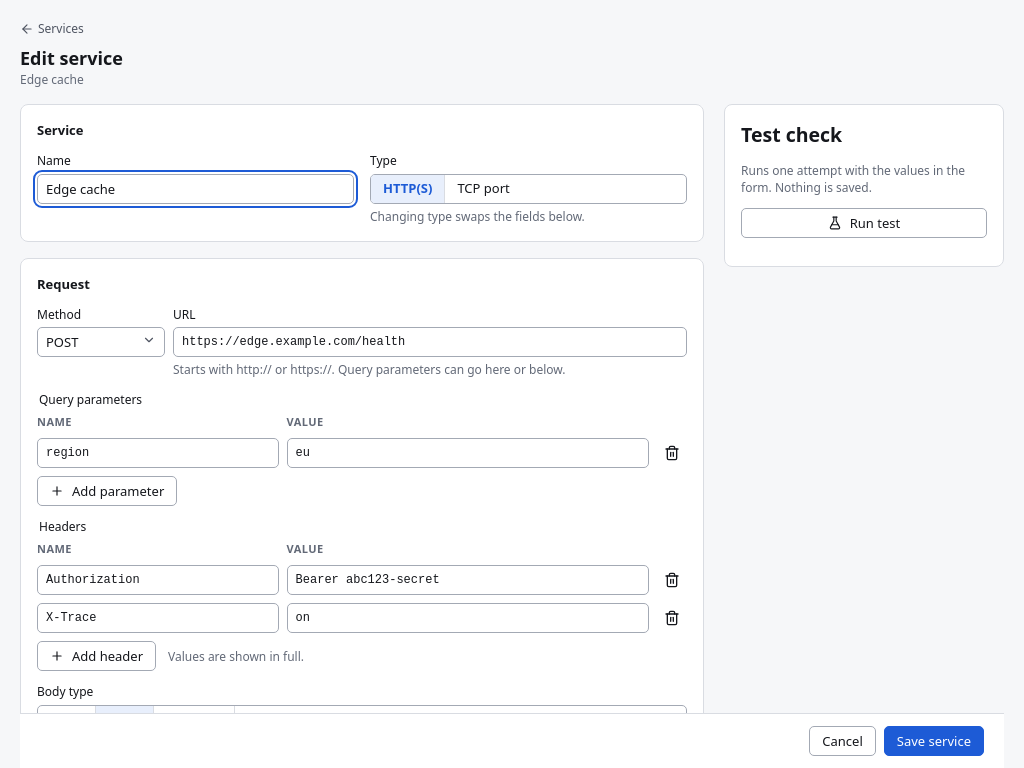
Test: a test touches nothing (FR-105) › leaves an untouched edit form unchanged: the footer stays empty
Expected: the field labelled "Name" is shown, [37, 174, 354, 204]
What coordinates should you click on to do the following:
click the button "Run test"
I would click on:
 (864, 224)
Its box is [741, 208, 987, 238].
(page scrolled)
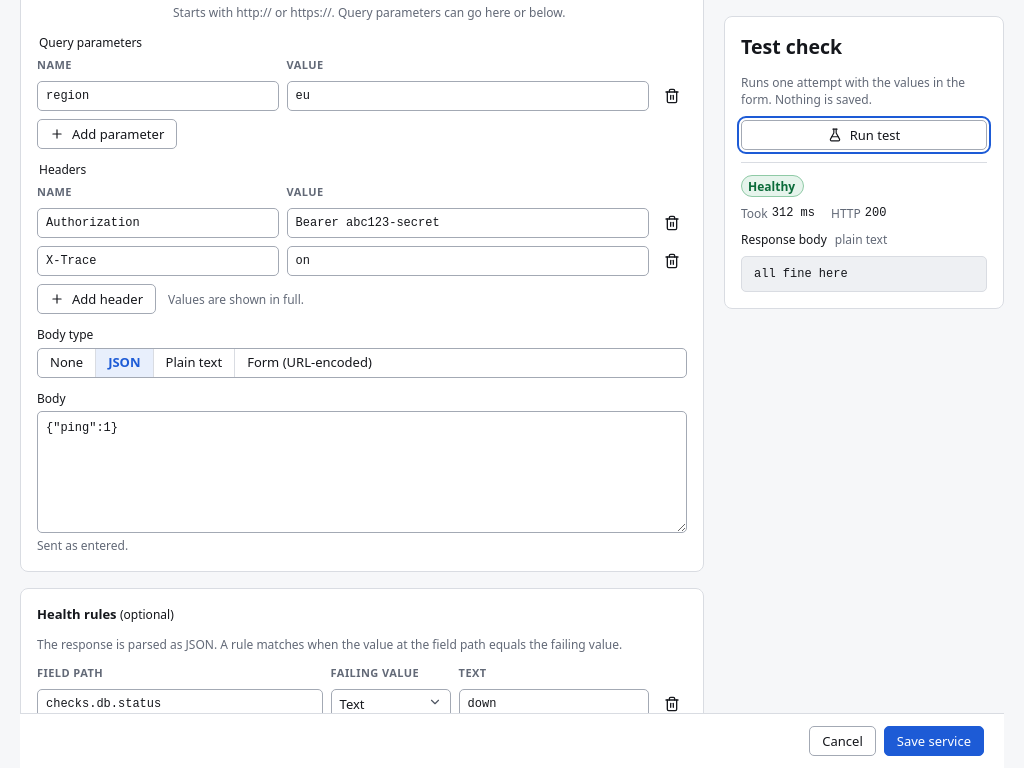
Expected: the text "Healthy" is shown, [741, 175, 804, 197]
